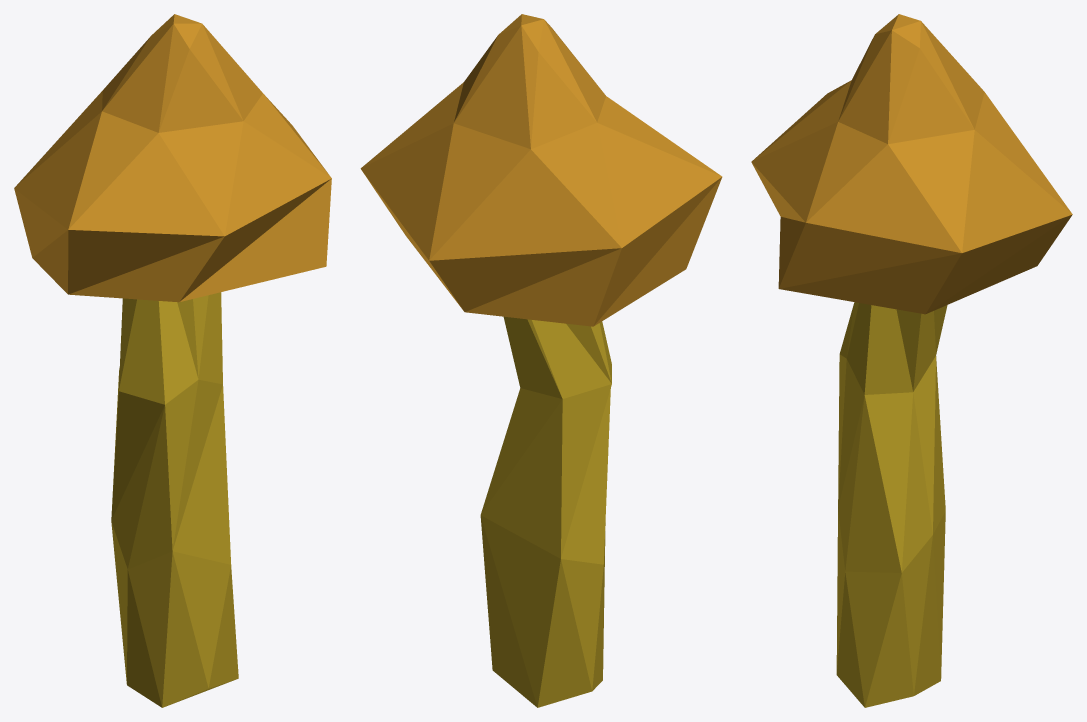
File: SENE_NEEDAMA-004.FBX
3 renders of one model, left to right at view 1: azimuth 30°, elevation 25°; view 2: azimuth 150°, elevation 25°; view 3: azimuth 270°, elevation 25°, orthographic. The views are drawn at different scales.
Parts seen in each view (by area): view 1: SENE_NEEDAMA-004; view 2: SENE_NEEDAMA-004; view 3: SENE_NEEDAMA-004.
Boxes of the visible parts, x1,y1,x2,y2 form: SENE_NEEDAMA-004: (14, 14, 331, 707); SENE_NEEDAMA-004: (360, 14, 722, 707); SENE_NEEDAMA-004: (751, 14, 1072, 707).
Size of the model in its own units: 303 by 657 by 284.
Materials: 1 (1 with a texture image).
